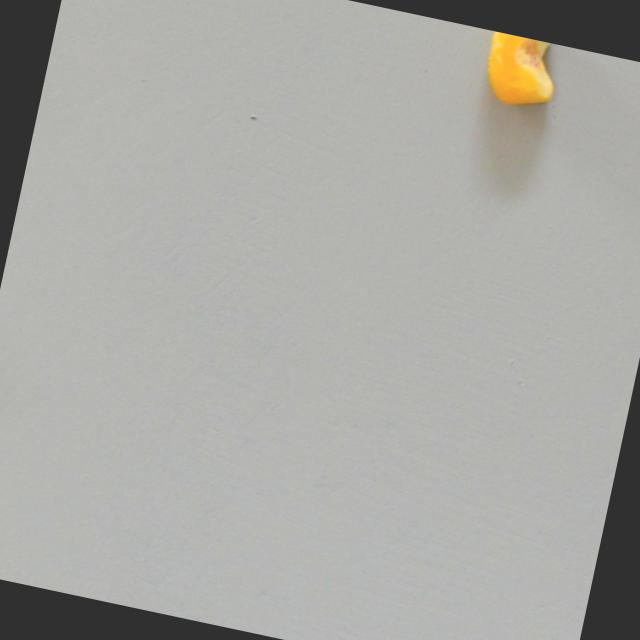dañado: (459, 26, 581, 125)
